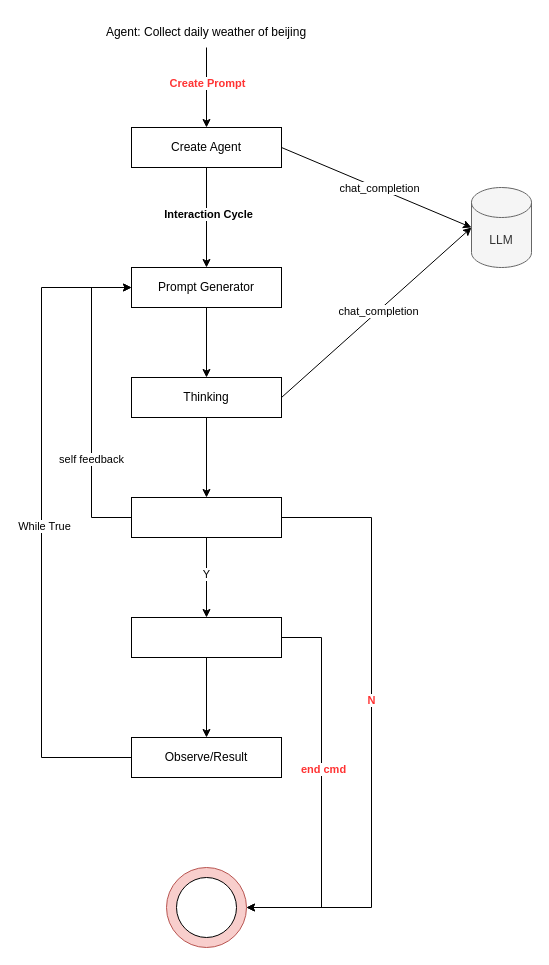
Image size: 549x965. Some labels were removed from this diagram. The shapes that lost their labels are listed below. From the top down, each one's centre as x and y in pixels, then its label:
At point 206,517: "Human Authorize".
At point 206,637: "Command".
At point 206,907: "End".
